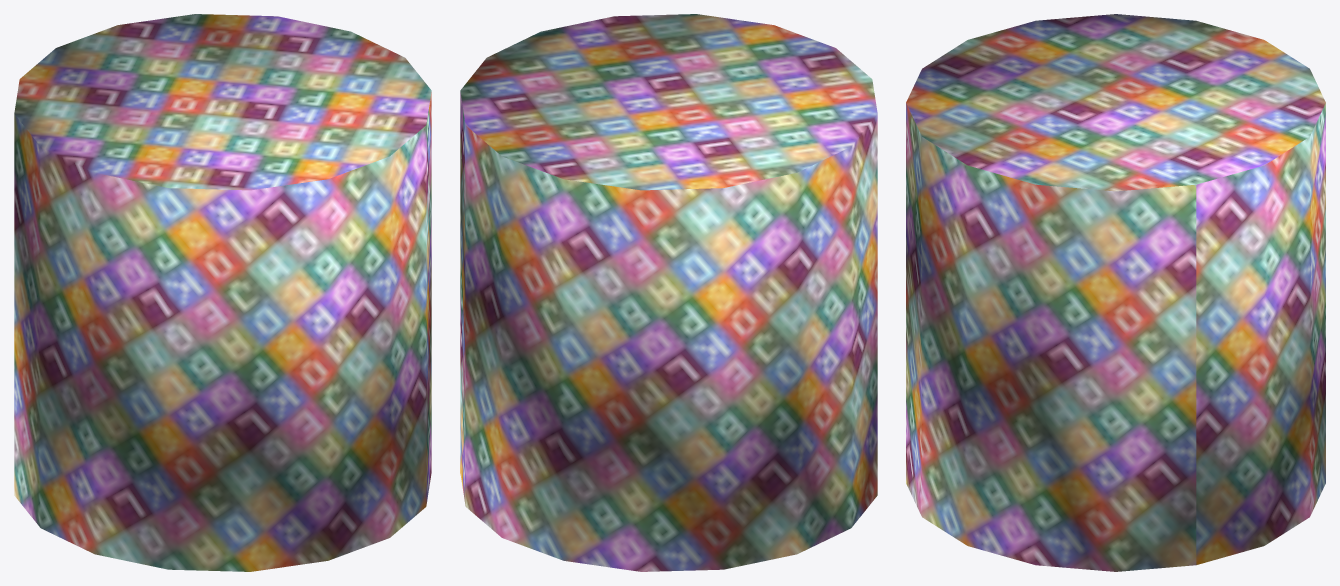
Rendered from cylSimple.obj.
3 renders of one model, left to right at view 1: azimuth 30°, elevation 25°; view 2: azimuth 150°, elevation 25°; view 3: azimuth 270°, elevation 25°, orthographic.
Visible parts, largest first — view 1: Cylinder1; view 2: Cylinder1; view 3: Cylinder1.
Boxes of the visible parts, bbox=[...] form: Cylinder1: bbox=[14, 14, 431, 571]; Cylinder1: bbox=[460, 14, 877, 571]; Cylinder1: bbox=[906, 14, 1325, 571].
Size of the model in its own units: 2 by 2 by 2.
Materials: 1 (1 with a texture image).
